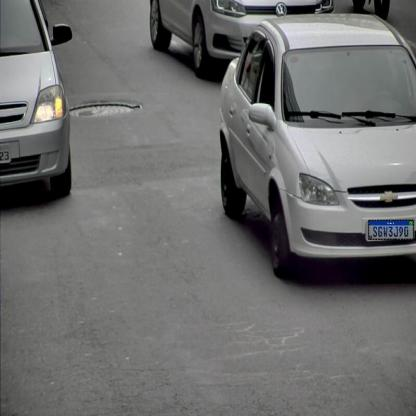PlacaM: (368, 220, 414, 240)
